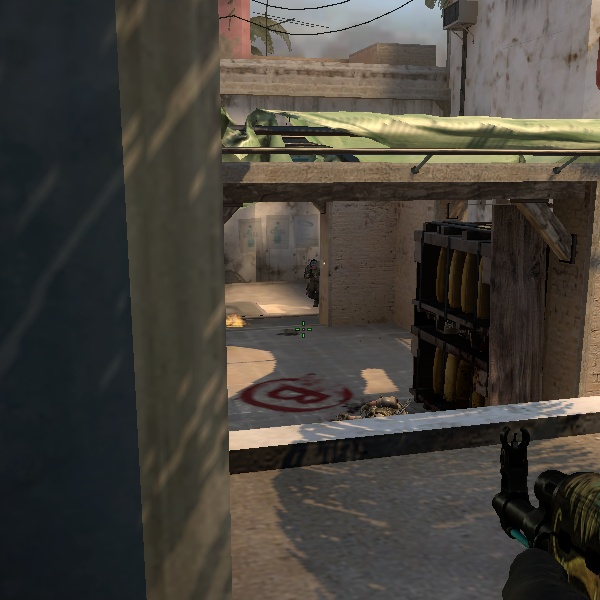ct_body: (299, 256, 321, 305)
ct_head: (307, 257, 321, 272)
